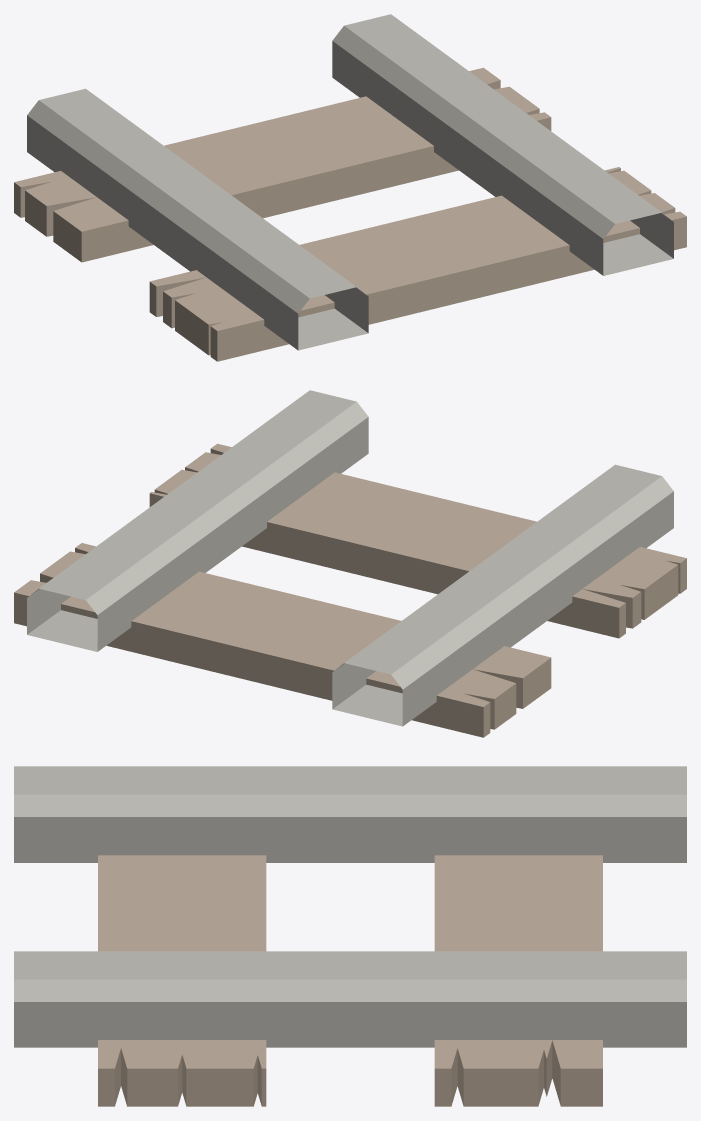
File: Cave_Prop_Railway_Straight_2.glb
The picture shows the model from 3 angles, top to bottom: view 1: azimuth 30°, elevation 25°; view 2: azimuth 150°, elevation 25°; view 3: azimuth 270°, elevation 25°; orthographic projection. The views are drawn at different scales.
Parts seen in each view (by area): view 1: Cave_Prop_Railway_Straight_2; view 2: Cave_Prop_Railway_Straight_2; view 3: Cave_Prop_Railway_Straight_2.
Part boxes in pixels (left/top/right/bottom): Cave_Prop_Railway_Straight_2: left=14, top=14, right=686, bottom=361; Cave_Prop_Railway_Straight_2: left=14, top=390, right=686, bottom=737; Cave_Prop_Railway_Straight_2: left=14, top=766, right=686, bottom=1106.
Bounding box in the file's own units: 0.5 × 0.075 × 0.5.
